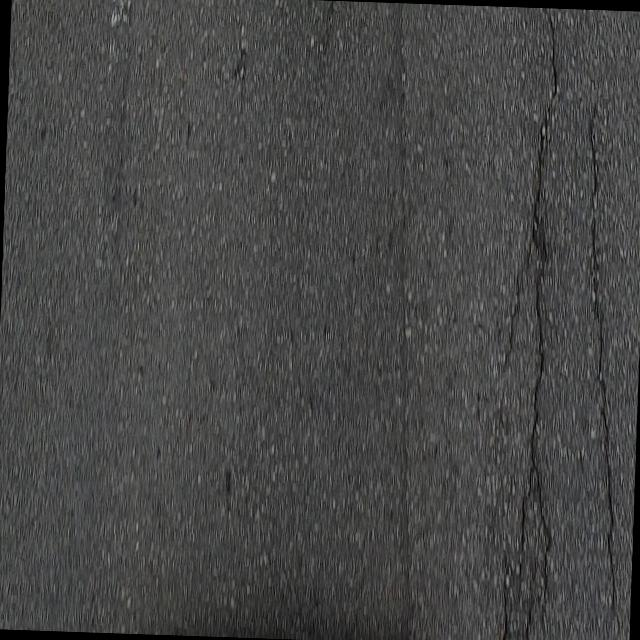Retak-Memanjang: (526, 9, 562, 625), (585, 95, 617, 618)
